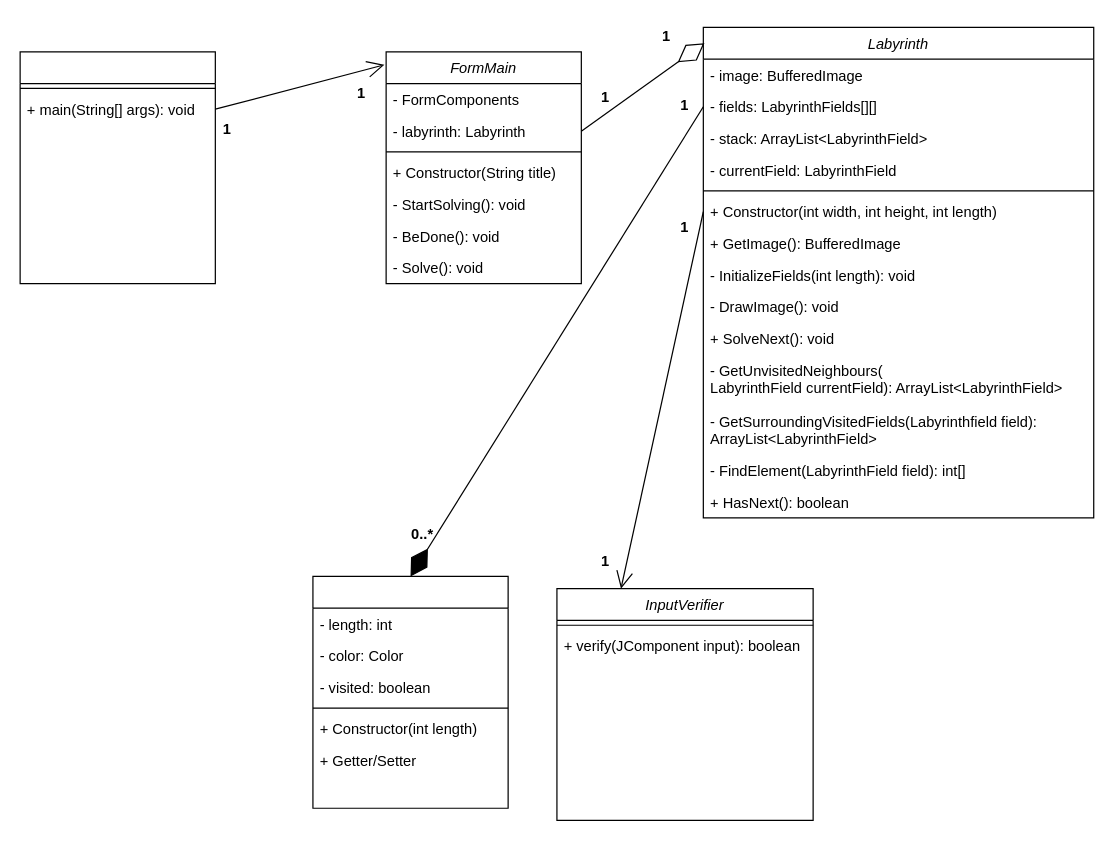
Image size: 1114x841. Some labels were removed from this diagram. Here are the shapes that lost their labels. From the top down, the box of each, then its label:
(19, 51, 215, 284): LabyrinthBacktracer
(312, 575, 508, 808): LabyrinthField
